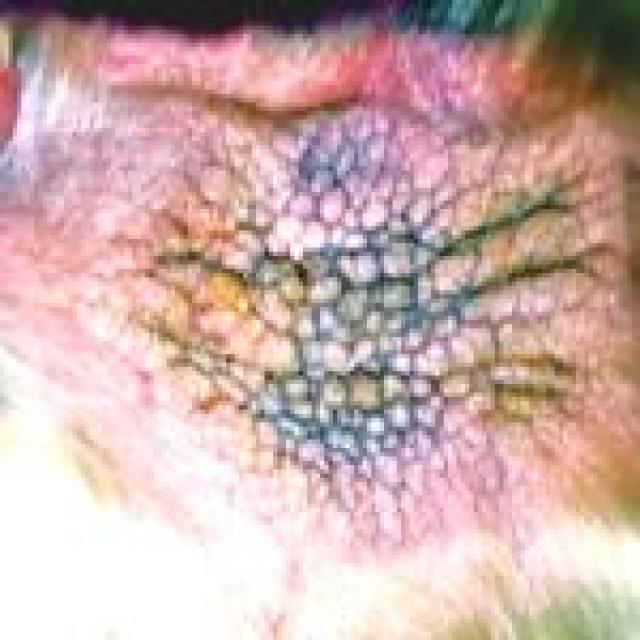fungal infection: (171, 152, 508, 453)
